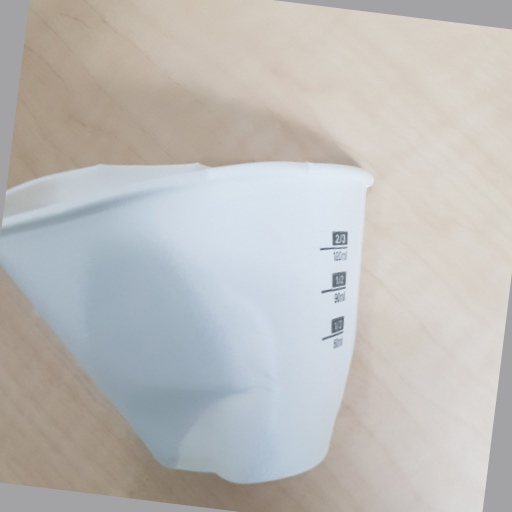Paper_1: (1, 159, 377, 484)
